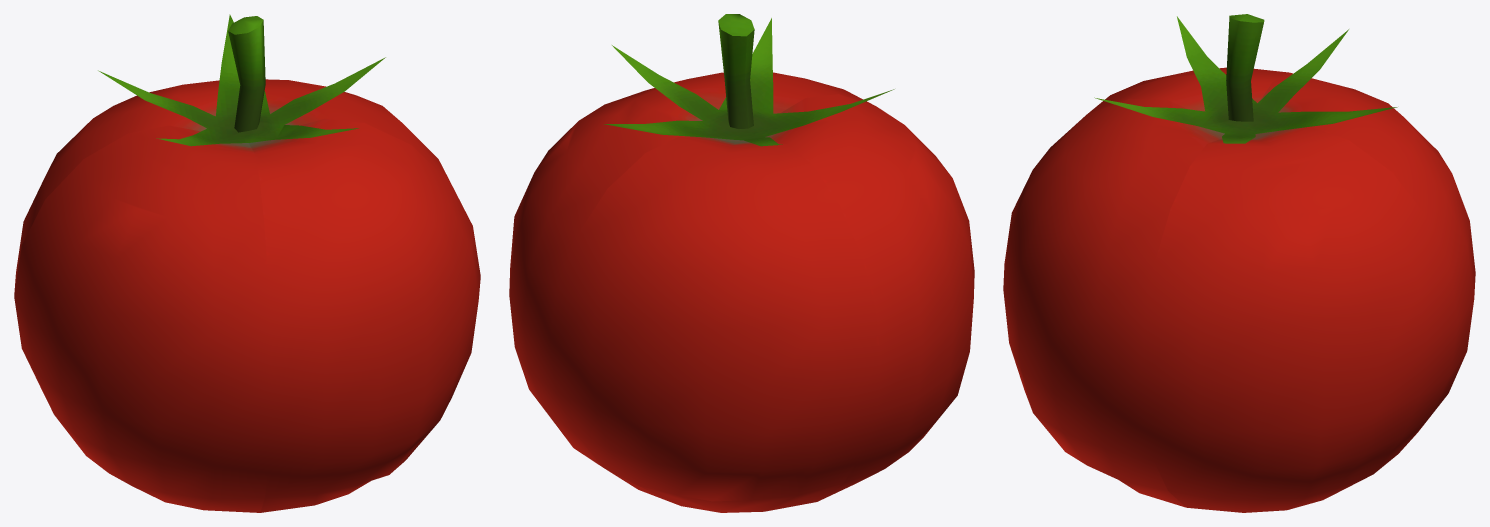
The model's file is tomato.glb.
The picture shows the model from 3 angles, left to right: view 1: azimuth 30°, elevation 25°; view 2: azimuth 150°, elevation 25°; view 3: azimuth 270°, elevation 25°; orthographic projection. The views are drawn at different scales.
Parts seen in each view (by area): view 1: Tomato_Whole; view 2: Tomato_Whole; view 3: Tomato_Whole.
Part boxes in pixels (x1,y1,x2,y2): Tomato_Whole: (14, 14, 480, 512); Tomato_Whole: (509, 14, 974, 512); Tomato_Whole: (1003, 14, 1475, 512).
Bounding box in the file's own units: 1.07 × 1.17 × 1.07.
Materials: 1 (1 with a texture image).
